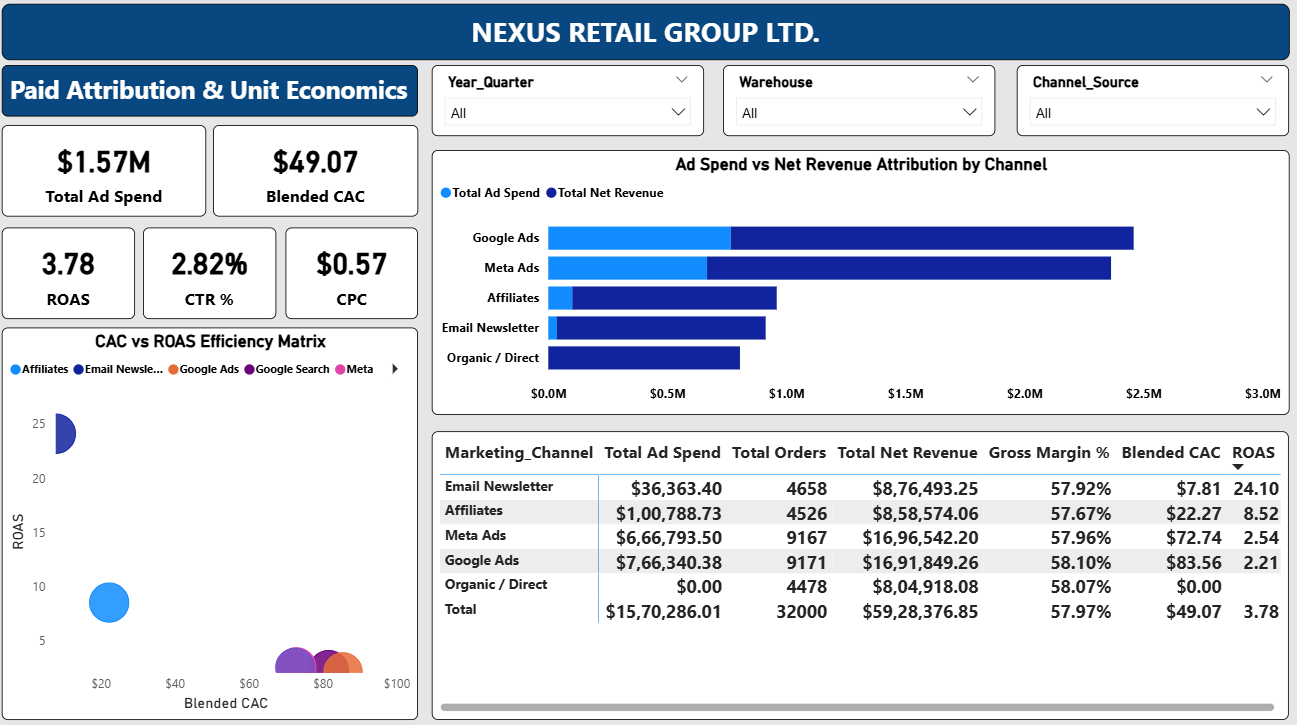

The dashboard page shown, as its layout file describes it:
{"tool":"powerbi","page":{"name":"Paid Attribution & Unit Economics","canvas":[1280,720],"ordinal":1},"visuals":[{"type":"textbox","box":[9,8,1260,55],"z":0},{"type":"textbox","box":[8.6,68.5,407.2,50.1],"z":1000},{"type":"card","fields":{"Values":["Measures (2).Total Ad Spend"]},"box":[8.6,127.2,200,89.3],"z":2000},{"type":"card","fields":{"Values":["Measures (2).Blended CAC"]},"box":[215.2,127.2,200.5,89.3],"z":3000},{"type":"card","fields":{"Values":["Measures (2).ROAS"]},"box":[8.6,227.4,130,89.3],"z":4000},{"type":"slicer","fields":{"Values":["Dim_MarketingCampaigns.Channel_Source"]},"box":[1001.5,68.5,266.6,69.7],"z":5000},{"type":"slicer","fields":{"Values":["Dim_Date.Year_Quarter"]},"box":[429.2,68.5,266.6,69.7],"z":6000},{"type":"slicer","fields":{"Values":["Dim_Regions.Warehouse"]},"box":[714.1,68.5,266.6,69.7],"z":7000},{"type":"card","fields":{"Values":["Measures (2).CTR %"]},"box":[146.7,227.4,130,89.3],"z":8000},{"type":"card","fields":{"Values":["Measures (2).CPC"]},"box":[286.1,227.4,129.6,89.3],"z":9000},{"type":"scatterChart","title":"CAC vs ROAS Efficiency Matrix","fields":{"X":["Measures (2).Blended CAC"],"Y":["Measures (2).ROAS"],"Size":["Measures (2).Total Net Revenue"],"Series":["Dim_MarketingCampaigns.Channel_Source"]},"box":[8.6,325.3,407.2,384],"z":10000},{"type":"barChart","title":"Ad Spend vs Net Revenue Attribution by Channel","fields":{"Y":["Measures (2).Total Ad Spend","Measures (2).Total Net Revenue"],"Category":["Dim_MarketingCampaigns.Marketing_Channel"]},"box":[429.2,151.6,838.9,259.2],"z":11000},{"type":"pivotTable","fields":{"Values":["Measures (2).Total Ad Spend","Measures (2).Total Orders","Measures (2).Total Net Revenue","Measures (2).Gross Margin %","Measures (2).Blended CAC","Measures (2).ROAS"],"Rows":["Dim_MarketingCampaigns.Marketing_Channel"]},"box":[429.5,426.8,838.4,282.7],"z":12000}]}

Visuals, with their boxes in screenshot pixels (x1, y1, x2, y2), scaled from the page's 1280x720 canvas onto the 1297x725 screenshot:
textbox: 9, 8, 1286, 63
textbox: 9, 69, 421, 119
card - Measures (2).Total Ad Spend: 9, 128, 211, 218
card - Measures (2).Blended CAC: 218, 128, 421, 218
card - Measures (2).ROAS: 9, 229, 140, 319
slicer - Dim_MarketingCampaigns.Channel_Source: 1015, 69, 1285, 139
slicer - Dim_Date.Year_Quarter: 435, 69, 705, 139
slicer - Dim_Regions.Warehouse: 724, 69, 994, 139
card - Measures (2).CTR %: 149, 229, 280, 319
card - Measures (2).CPC: 290, 229, 421, 319
"CAC vs ROAS Efficiency Matrix" scatterChart: 9, 328, 421, 714
"Ad Spend vs Net Revenue Attribution by Channel" barChart: 435, 153, 1285, 414
pivotTable - Measures (2).Total Ad Spend x Measures (2).Total Orders: 435, 430, 1285, 714
